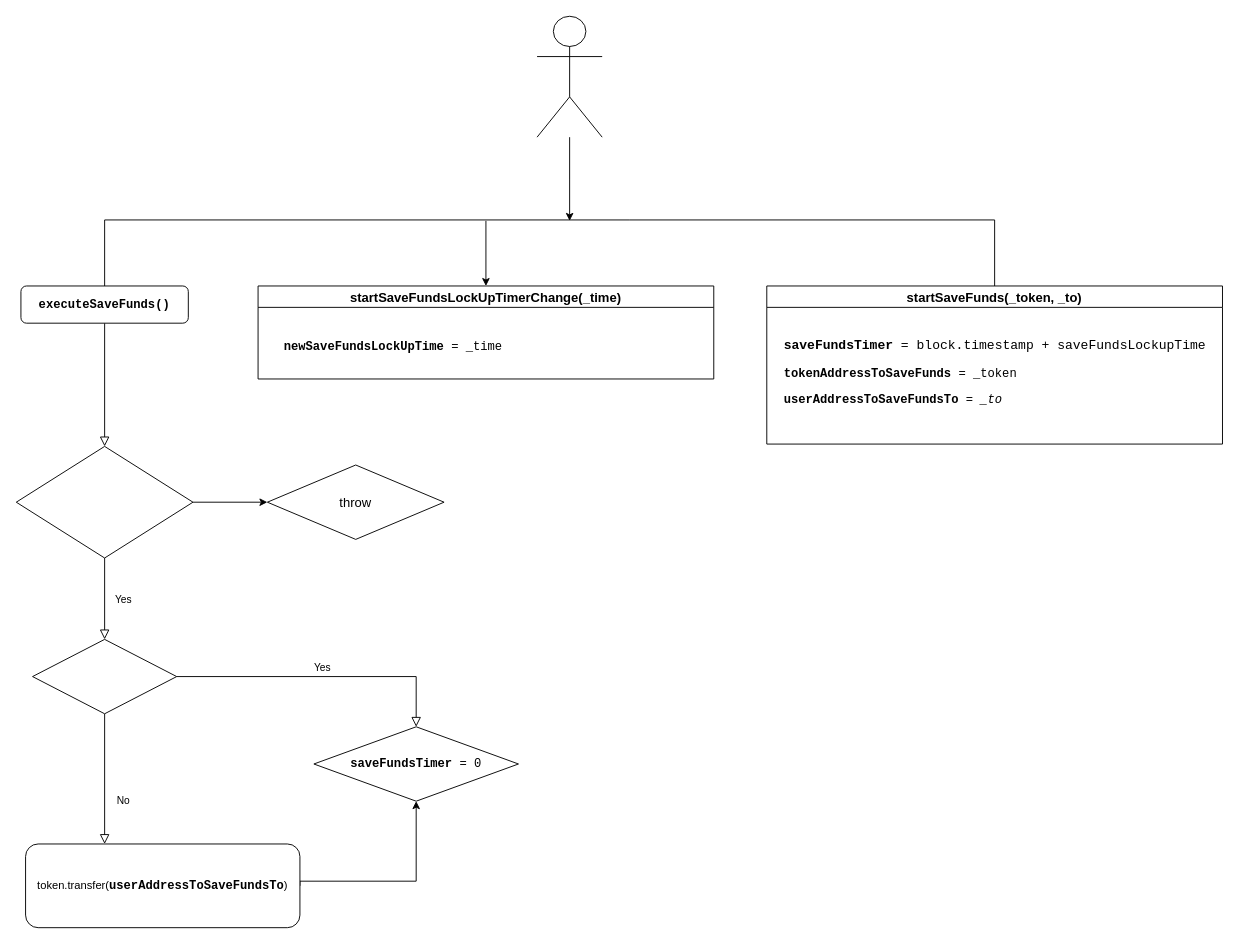
Some shapes in this 1239 by 944 pixel diagram are drawn without their labels. The shapes that lost their labels are listed below. From the top down, each one's centre as x and y in pixels, then its label:
[569,76]: Admin
[104,501]: Is saveFundsTimer set and <= block.timestamp
[104,676]: Is token balance = 0
